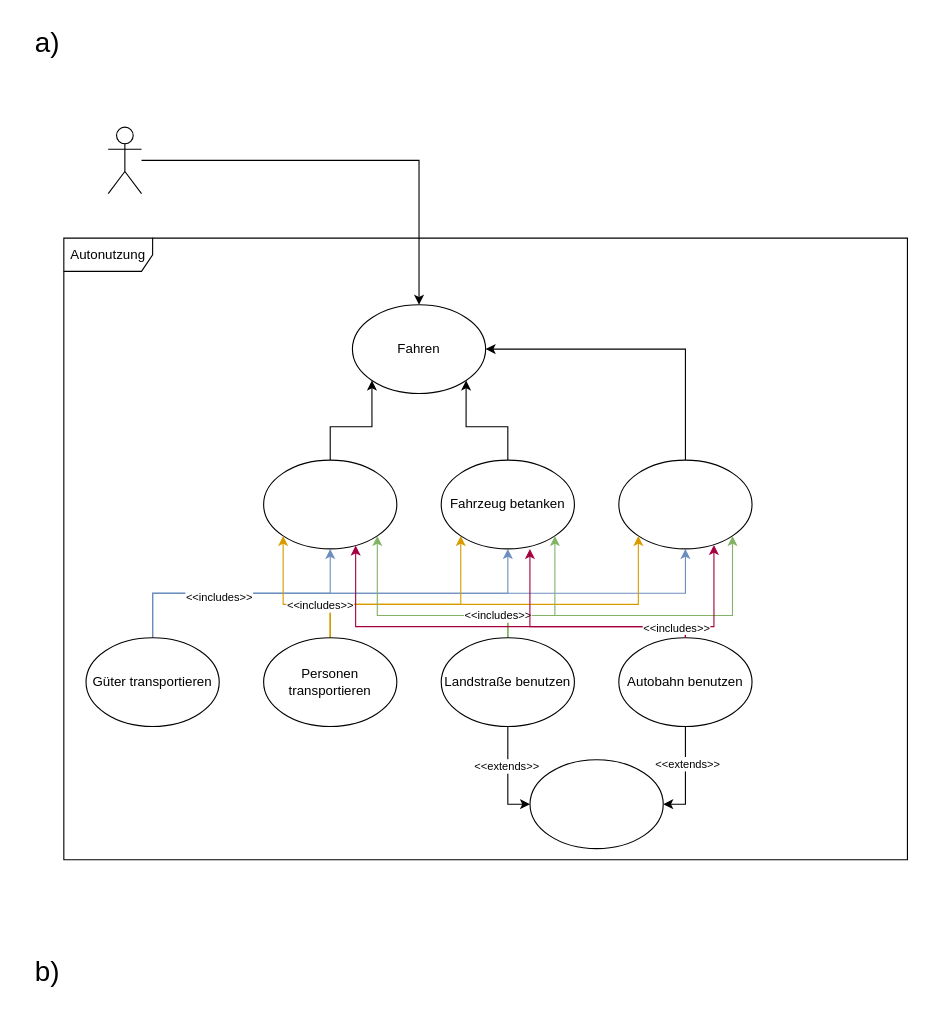
The diagram is 927 pixels wide and 1011 high, and some of its shapes have lost their labels. Each missing label, with the centre of its shape:
"Fahrzeugführer" goes at (x=124, y=160).
"Geschwindigkeit anpassen" goes at (x=596, y=804).
"Reifendruck prüfen" goes at (x=685, y=504).
"Verkehrsleitsystem beachten" goes at (x=330, y=504).
